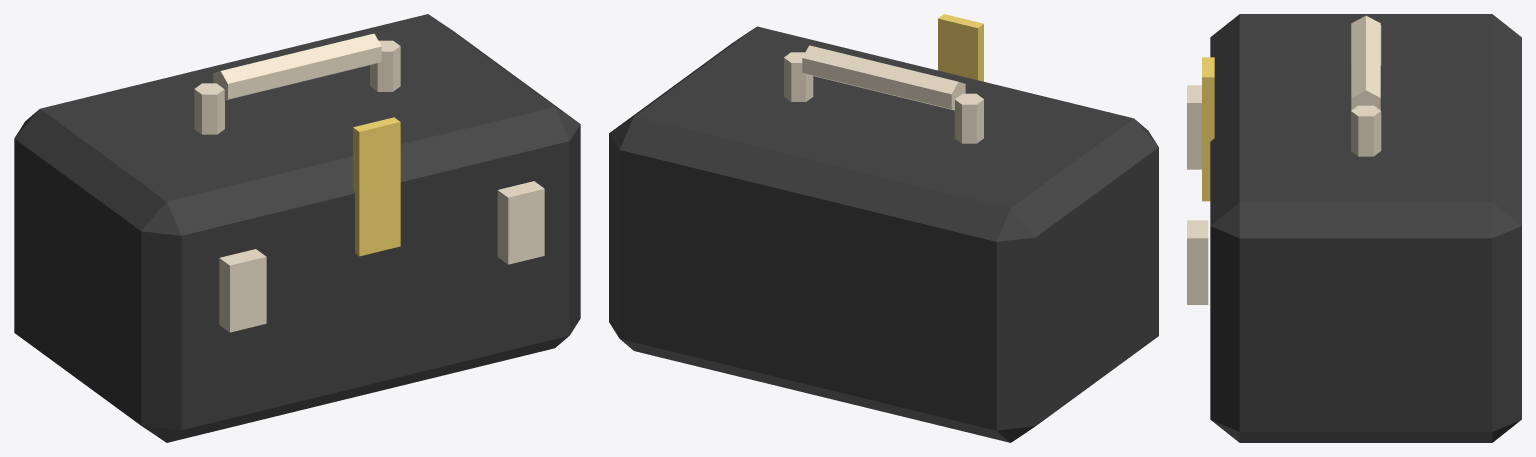
The picture shows the model from 3 angles, left to right: view 1: azimuth 30°, elevation 25°; view 2: azimuth 150°, elevation 25°; view 3: azimuth 270°, elevation 25°; orthographic projection. The views are drawn at different scales.
Visible parts, largest first — view 1: Case, Seal, Handle, Buckle, Buckle.001, Handle post, Handle post.001; view 2: Case, Handle, Seal, Handle post, Handle post.001; view 3: Case, Handle, Buckle.001, Seal, Handle post.001, Buckle.
Part boxes in pixels (x1,y1,x2,y2): Case: (14,14,580,442); Seal: (353,117,400,256); Handle: (213,33,381,100); Buckle: (219,249,266,332); Buckle.001: (497,181,544,264); Handle post: (194,83,224,134); Handle post.001: (370,40,400,91); Case: (609,26,1158,442); Handle: (802,45,965,110); Seal: (938,14,983,81); Handle post: (954,93,983,143); Handle post.001: (784,52,813,101); Case: (1210,14,1521,442); Handle: (1351,15,1380,110); Buckle.001: (1187,220,1208,304); Seal: (1202,57,1214,201); Handle post.001: (1351,105,1381,156); Buckle: (1187,85,1201,169).
Size of the model in its own units: 0.48 by 0.31 by 0.318.
1 material, 1 textured.
